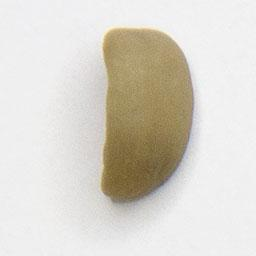premium: (99, 25, 197, 205)
